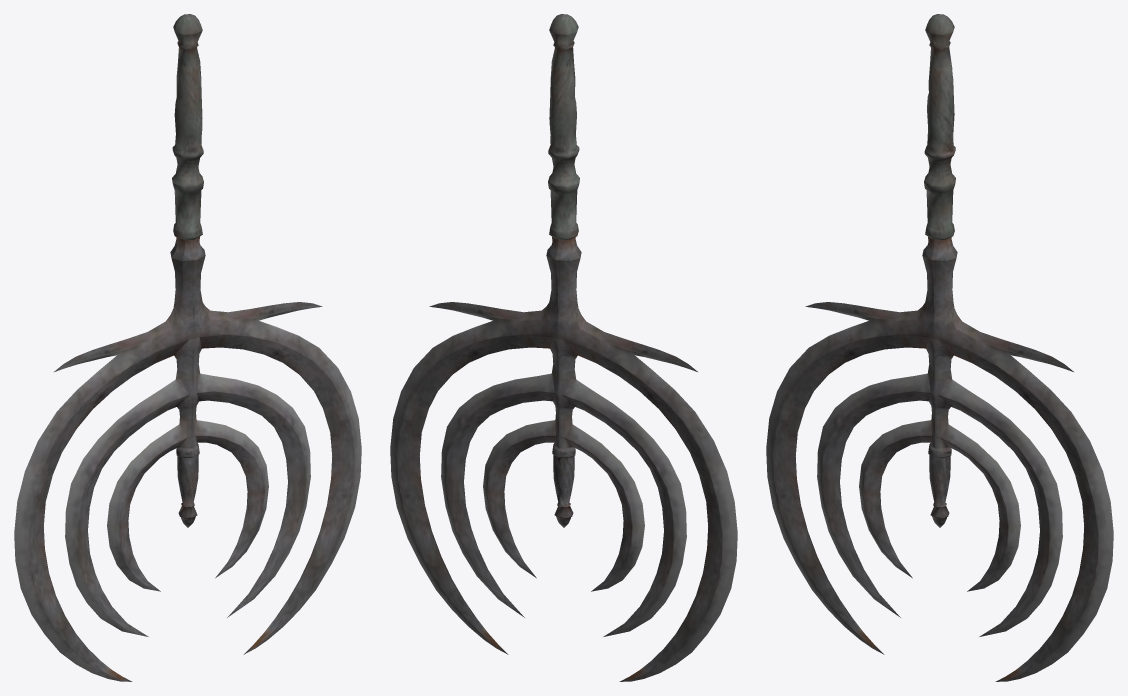
The model's file is weapon-wp_a_0707.glb.
3 renders of one model, left to right at view 1: azimuth 30°, elevation 25°; view 2: azimuth 150°, elevation 25°; view 3: azimuth 330°, elevation 25°, orthographic.
Visible parts, largest first — view 1: wp_a_0707_mesh; view 2: wp_a_0707_mesh; view 3: wp_a_0707_mesh.
Part boxes in pixels (x1=…): wp_a_0707_mesh: x1=14, y1=14, x2=361, y2=681; wp_a_0707_mesh: x1=390, y1=14, x2=737, y2=681; wp_a_0707_mesh: x1=766, y1=14, x2=1113, y2=681.
Bounding box in the file's own units: 0.5771 × 1.04 × 0.0496.
1 material, 1 textured.
